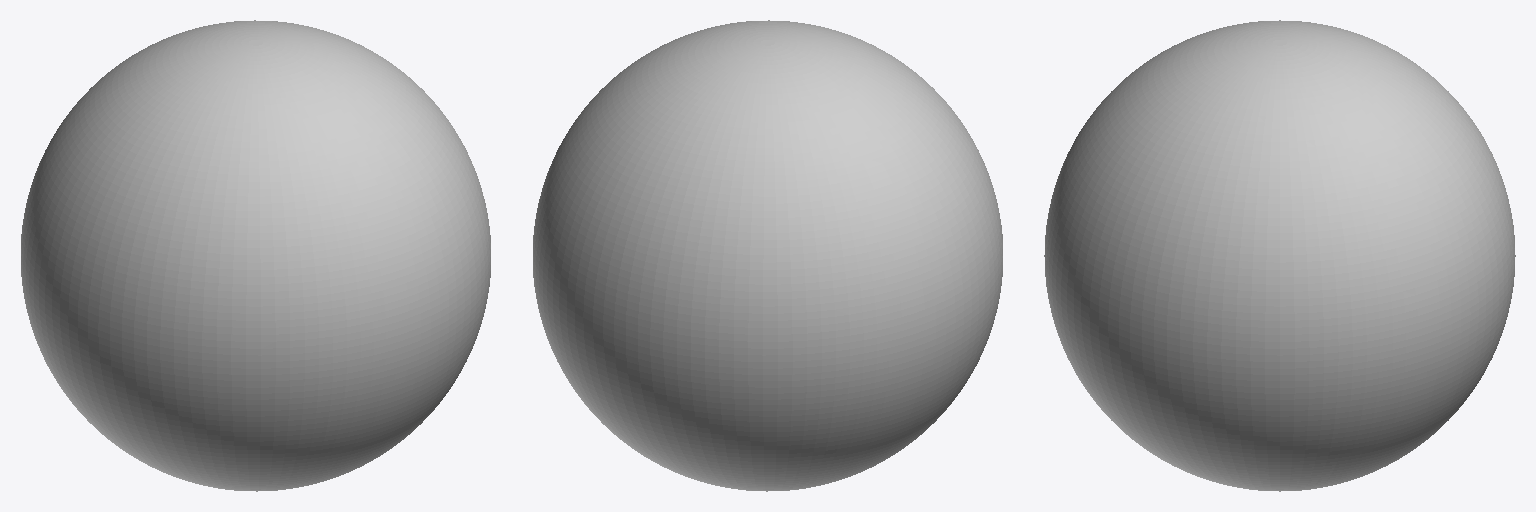
Rendered from sphere_old.obj.
3 renders of one model, left to right at view 1: azimuth 30°, elevation 25°; view 2: azimuth 150°, elevation 25°; view 3: azimuth 270°, elevation 25°, orthographic.
Parts seen in each view (by area): view 1: Sphere; view 2: Sphere; view 3: Sphere.
Part boxes in pixels (x1,y1,x2,y2): Sphere: (21,20,490,491); Sphere: (533,20,1002,491); Sphere: (1044,20,1515,491).
Bounding box in the file's own units: 2 × 2 × 2.